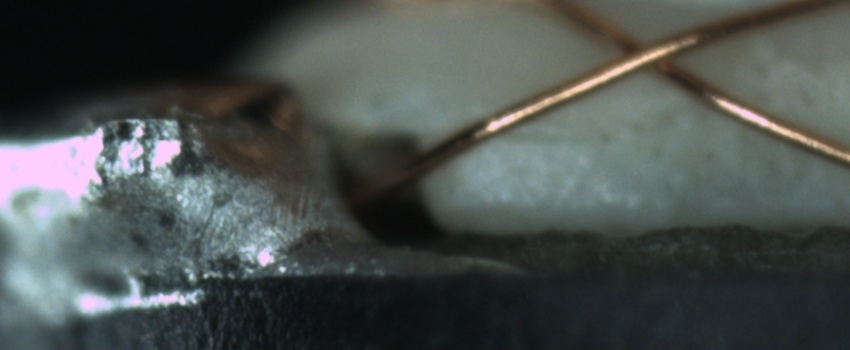CL: (594, 16, 699, 85)
DL: (469, 108, 615, 172)
